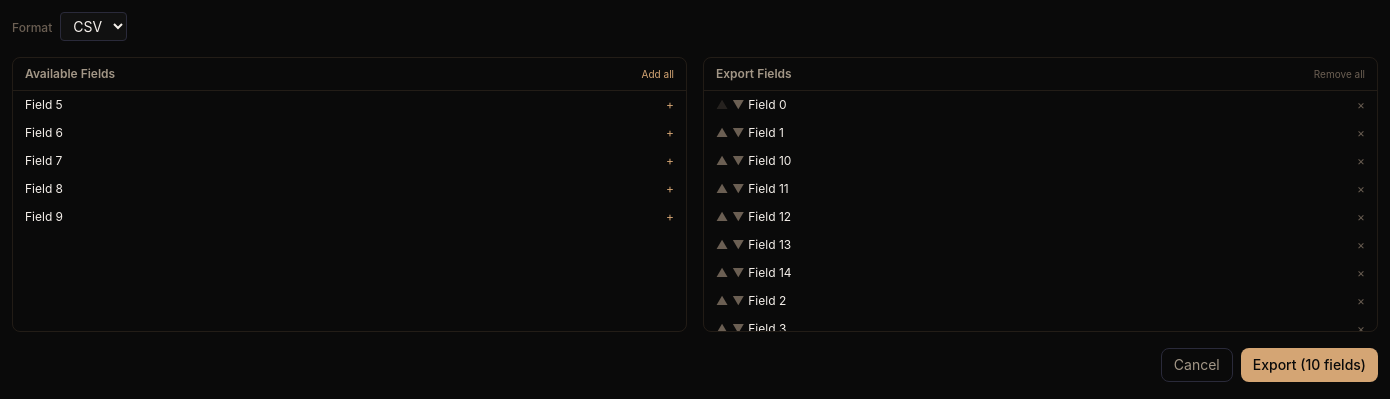
it: ExportDialog › can add a field to the export list
Click the button "Field 5 +".
click(44, 104)  # box x1=13 y1=91 x2=686 y2=119
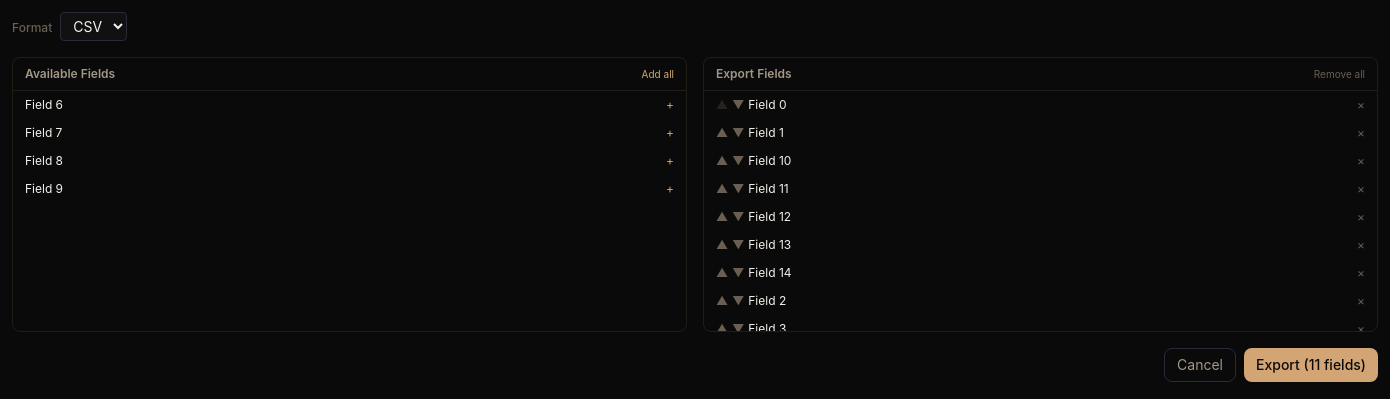
Expected: the button "Export (11 fields)" is shown, x1=1244 y1=348 x2=1378 y2=382
